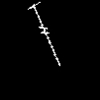treble_crochet: (29, 2, 59, 64)
